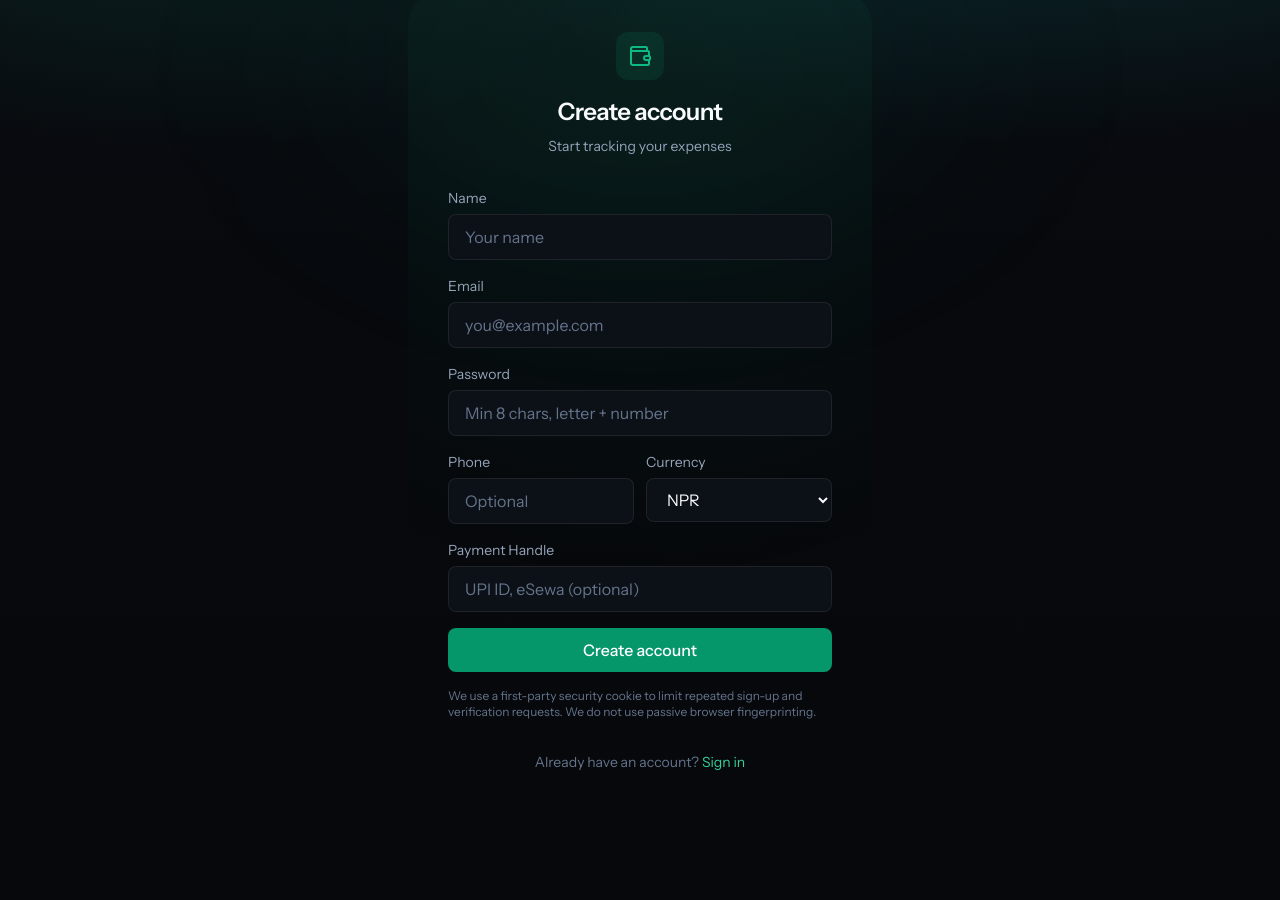
Test case: RegisterPage validation › shows error for password without letter
Type "Test User" into the field with placeholder "Your name" at (640, 237), box [448,214,832,260]
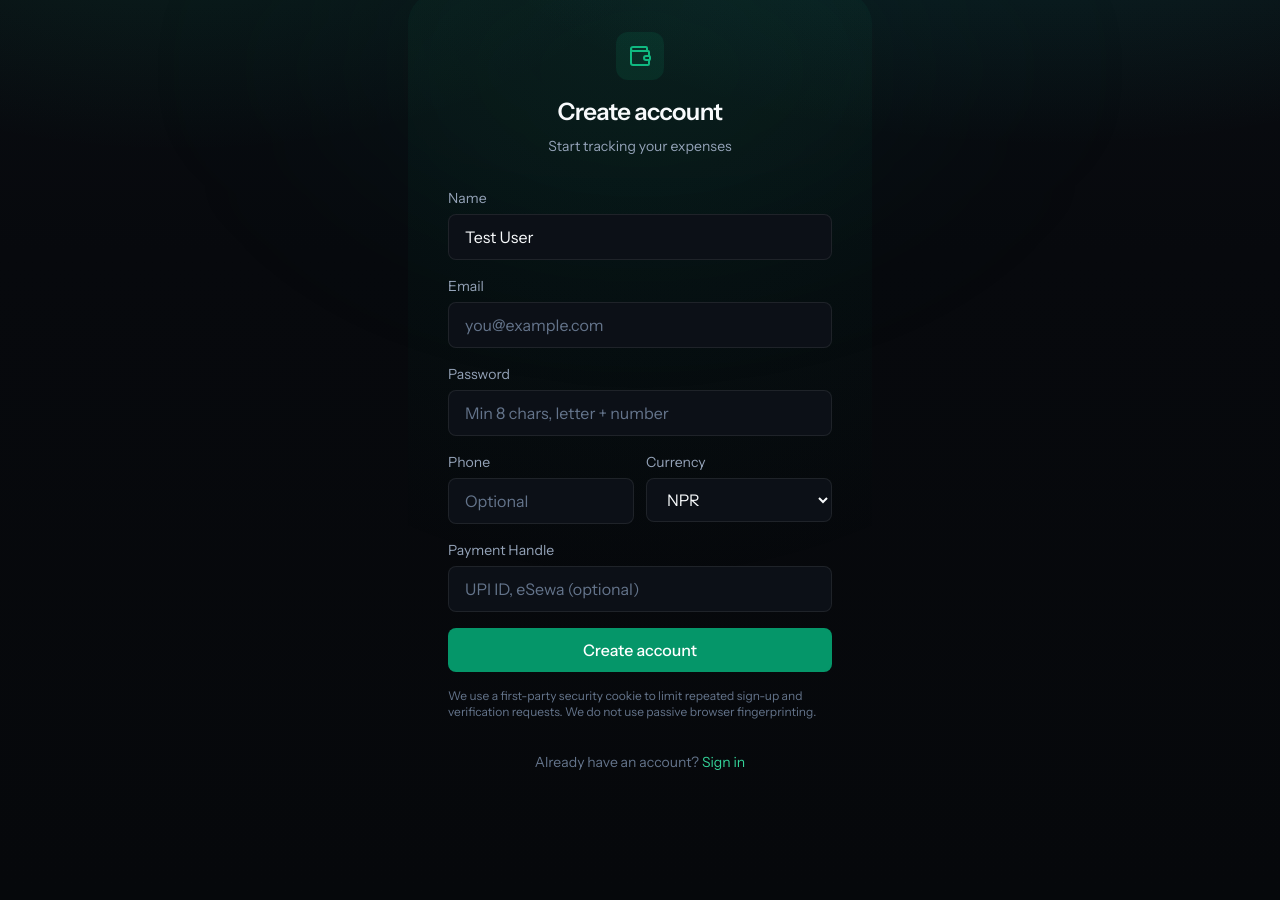
Type "test@example.com" into the field with placeholder "you@example.com" at (640, 325), box [448,302,832,348]
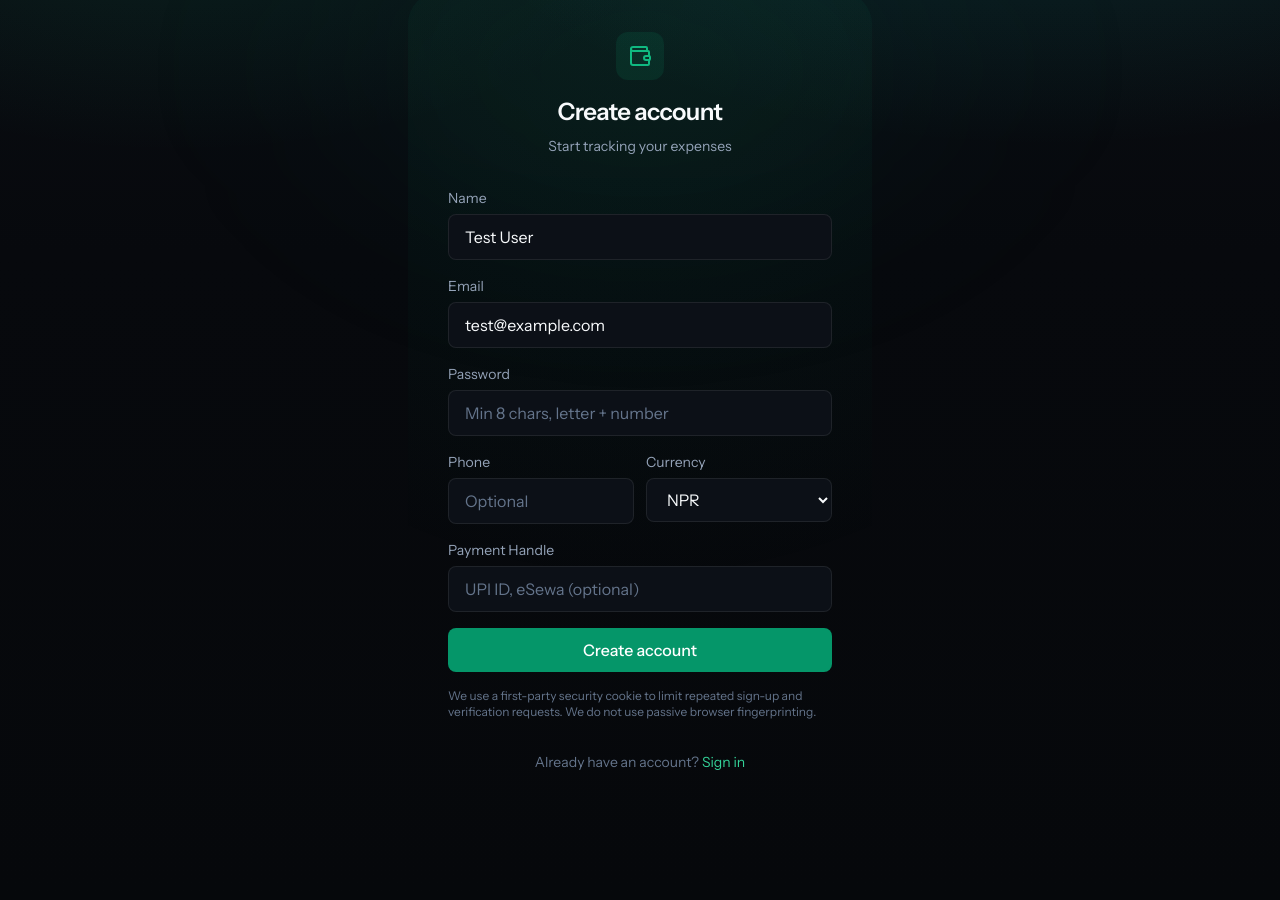
Type "12345678" into the password field with placeholder "Min 8 chars, letter + number" at (640, 413), box [448,390,832,436]
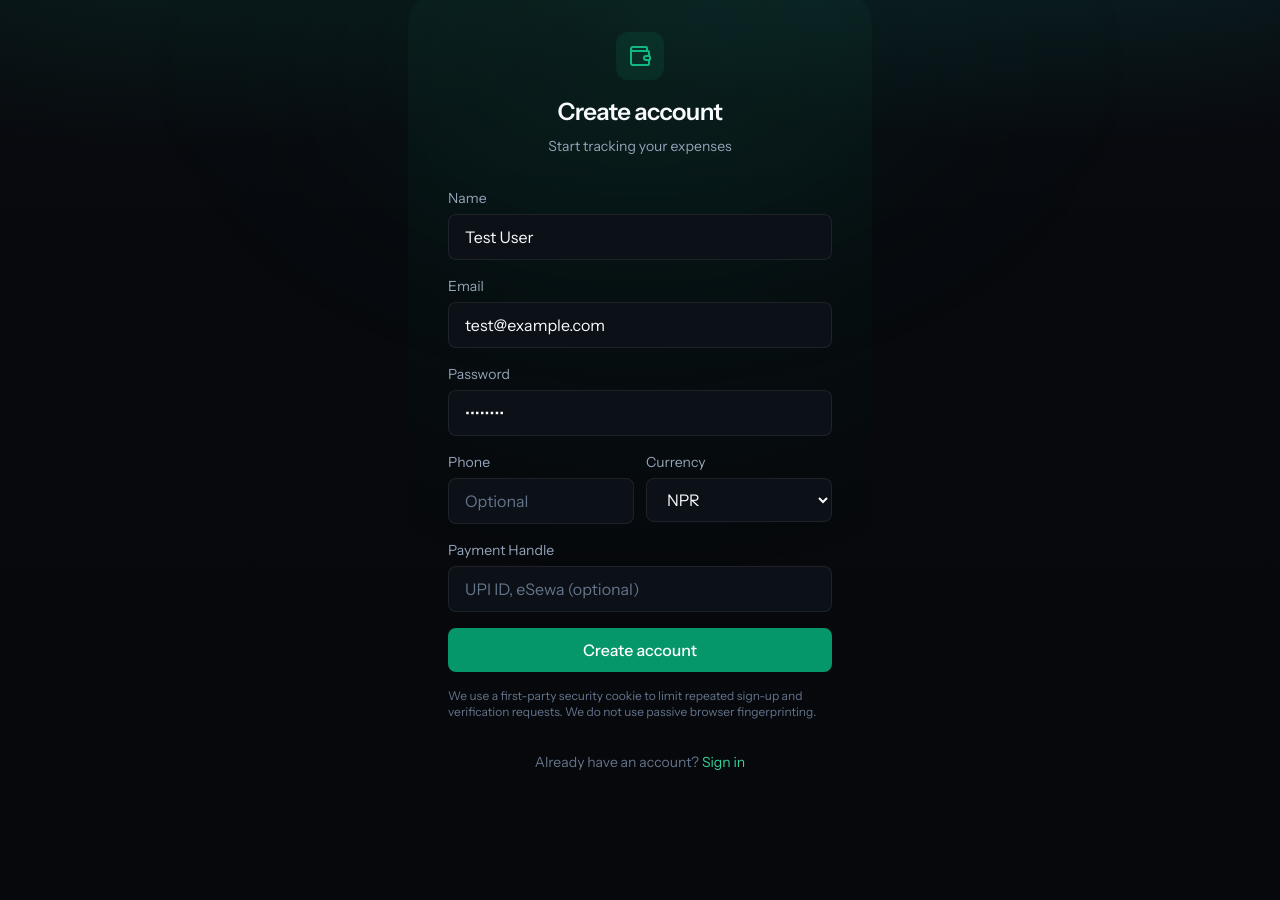
Click the button "Create account" at (640, 650), box [448,628,832,672]
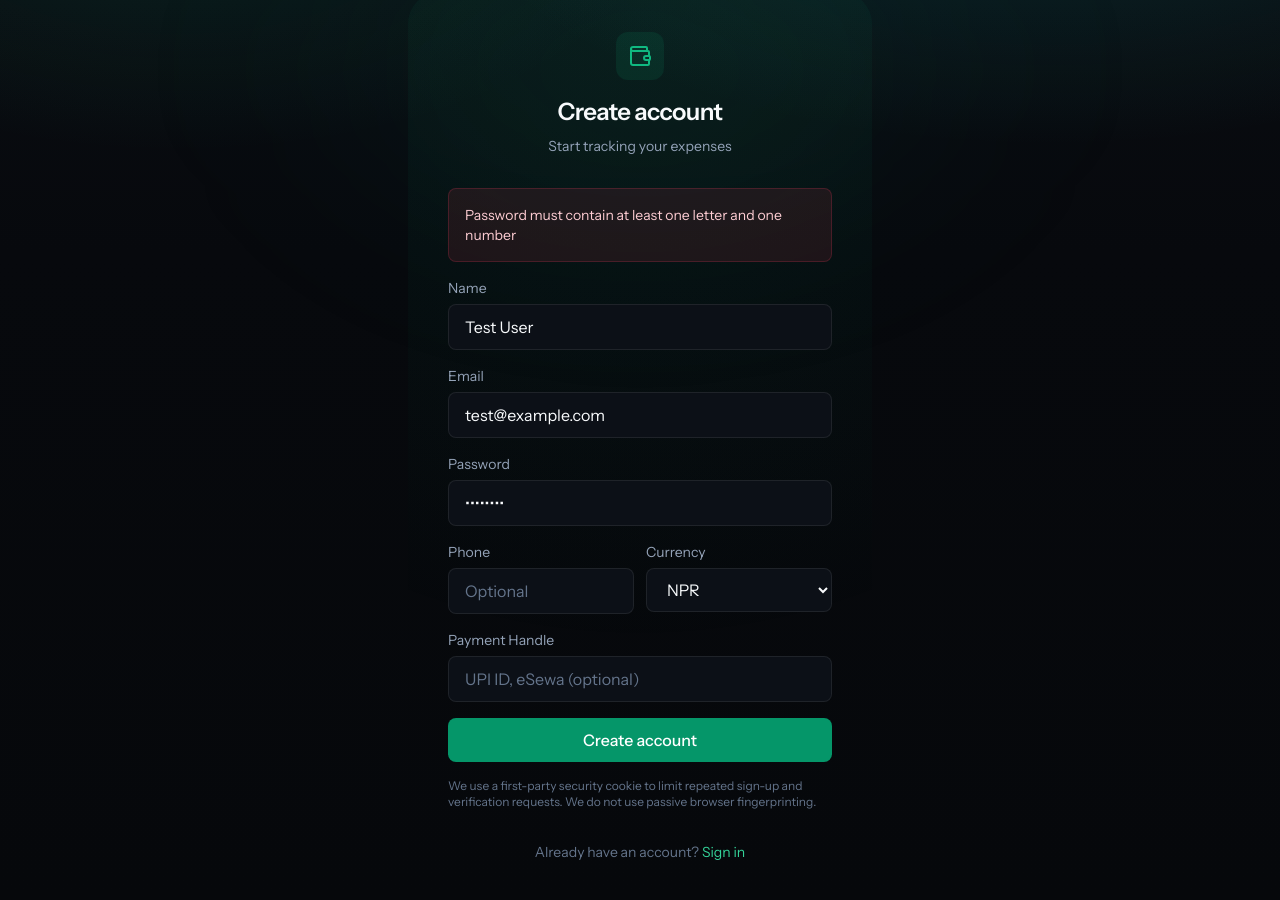
Now the text "Password must contain at least one letter and one number" is shown, box [465,205,815,245]
